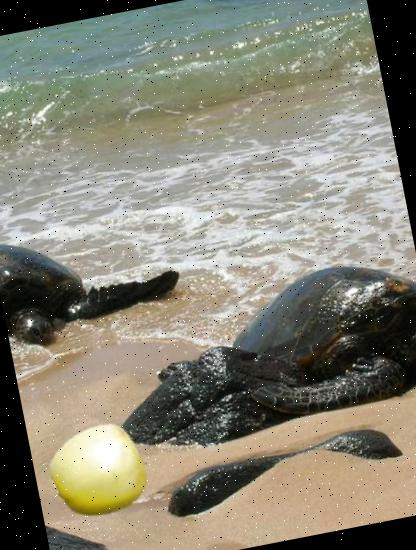Apple: (44, 417, 154, 526)
